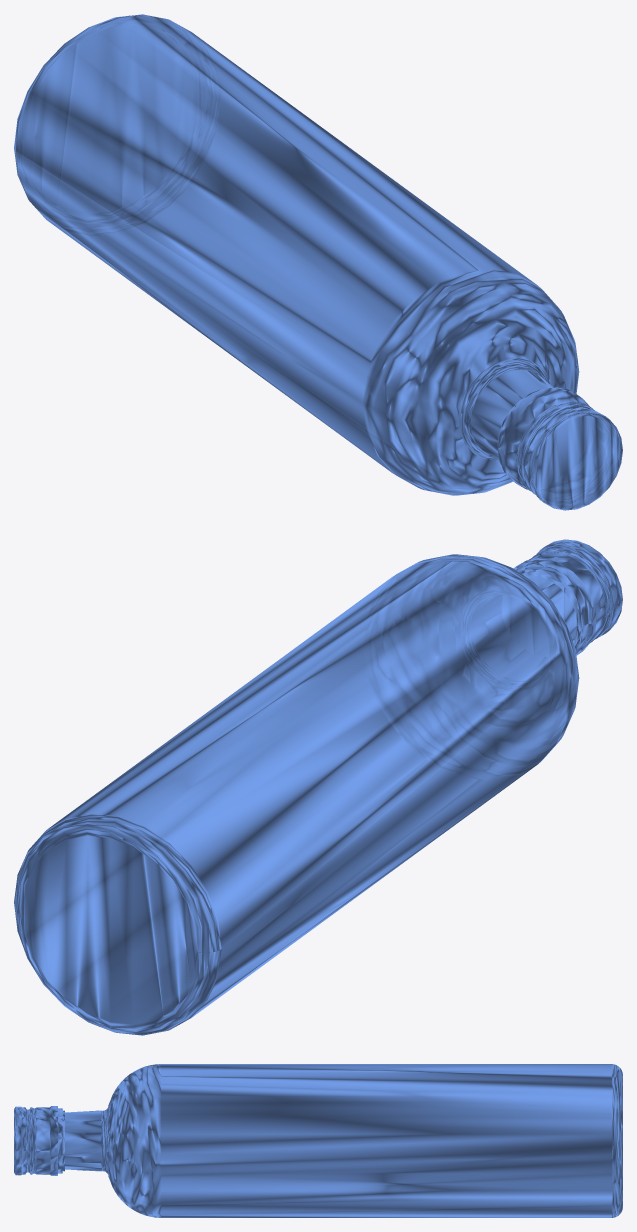
File: model_align.obj
The picture shows the model from 3 angles, top to bottom: view 1: azimuth 30°, elevation 25°; view 2: azimuth 150°, elevation 25°; view 3: azimuth 270°, elevation 25°; orthographic projection. The views are drawn at different scales.
Size of the model in its own units: 0.0534 by 0.0534 by 0.2106.
